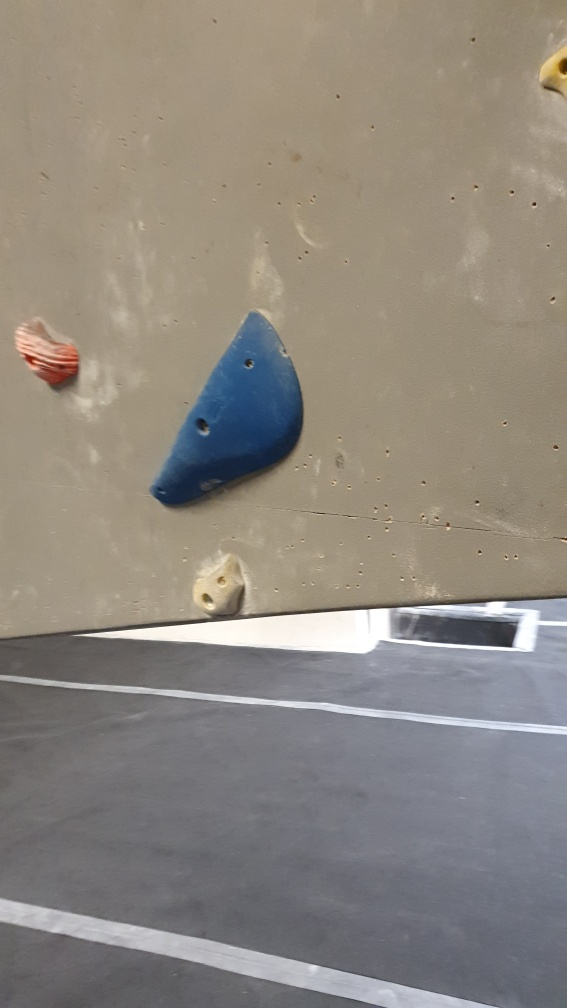Jug: (11, 314, 81, 391)
